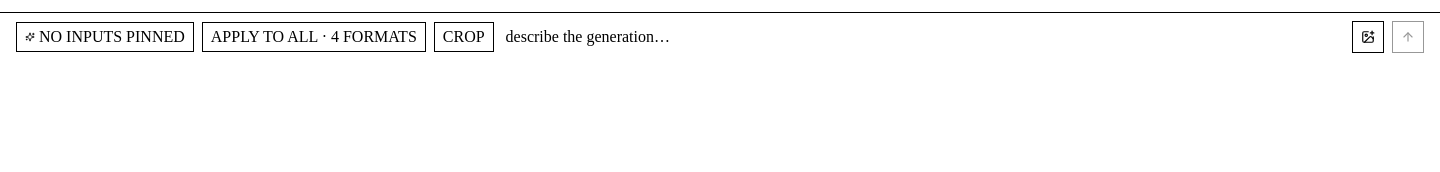
Scenario: PromptComposer · format-scope chip › flips to "only this format" when the creator clicks the scope chip
The width and height of the screenshot is (1440, 172).
Step 1. Click the button with aria-label "format scope" → (314, 37), box [202,22,426,52]
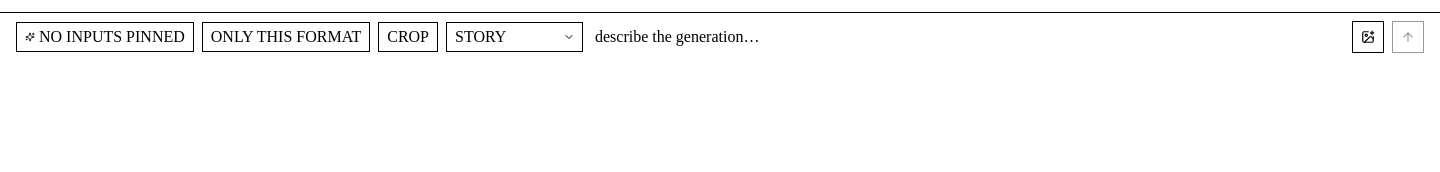
expect the button with aria-label "format scope" reads "only this format": met
expect the dropdown named "active format" shows "Story": met, box [446,22,583,52]
Step 2. Click the button with aria-label "format scope" → (286, 37), box [202,22,370,52]
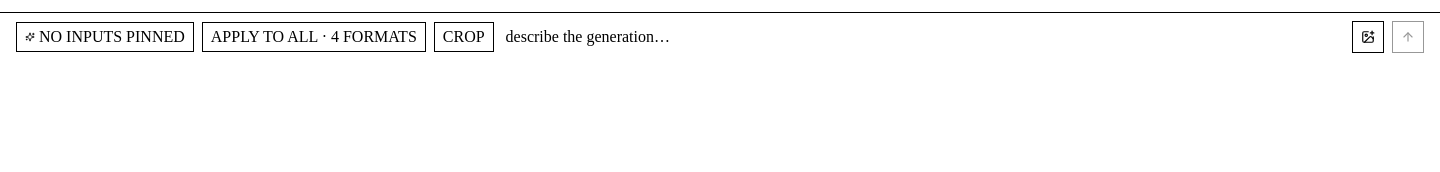
expect the button with aria-label "format scope" shows "apply to all": met, box [202,22,426,52]
